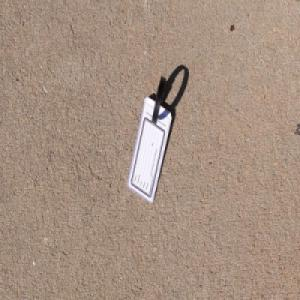LuggageTag: (127, 72, 173, 205)
